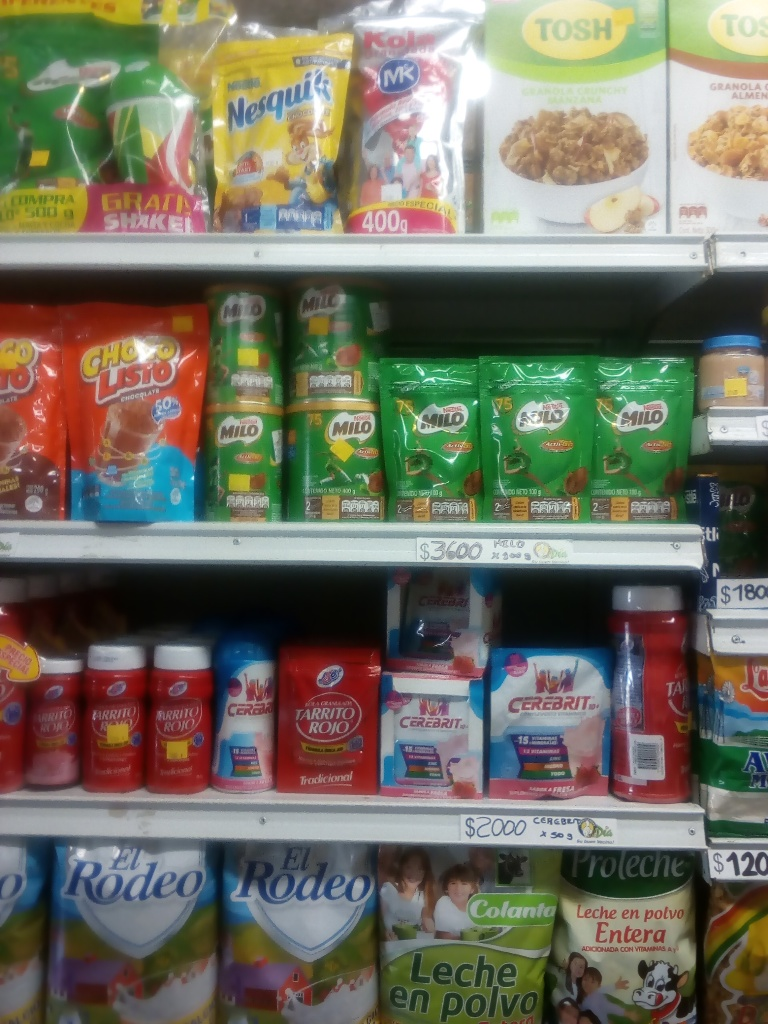COL0170104DYP20000: (65, 306, 193, 524)
COL0170203LAT20000: (198, 271, 281, 407)
COL0170203LAT40000: (282, 399, 385, 527)
COL0170303DYP20000: (208, 35, 354, 240)
